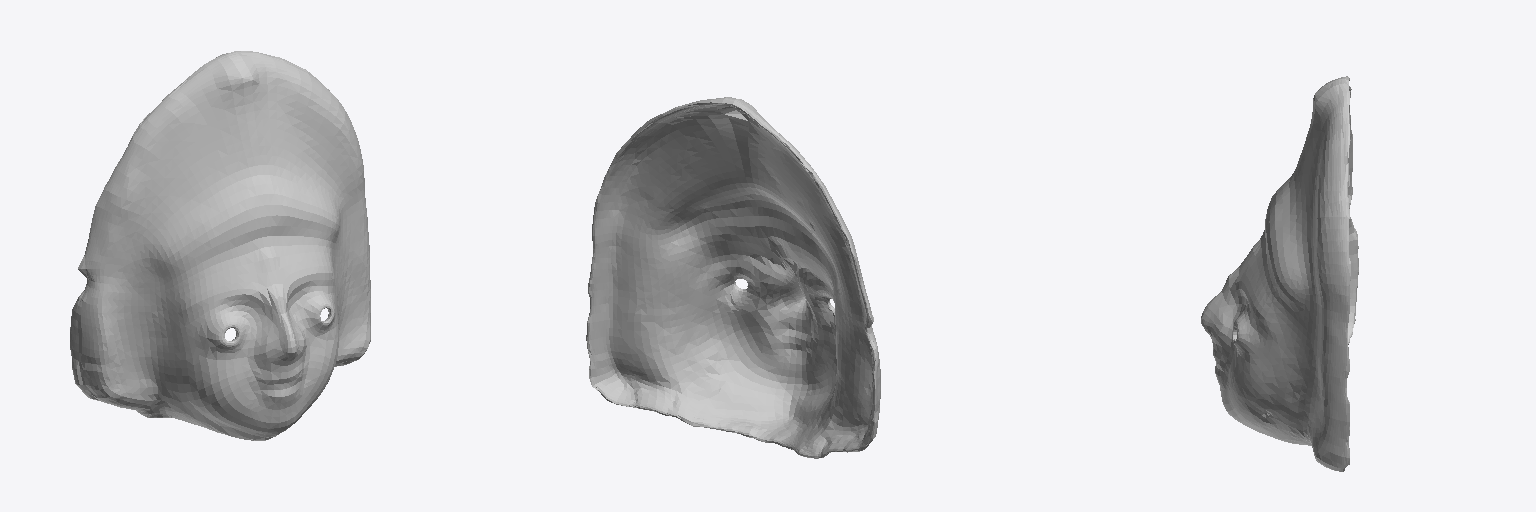
Rendered from Maschera A1.obj.
3 views of the same model, side by side, from view 1: azimuth 30°, elevation 25°; view 2: azimuth 150°, elevation 25°; view 3: azimuth 270°, elevation 25° (orthographic).
Parts seen in each view (by area): view 1: Face_LR1; view 2: Face_LR1; view 3: Face_LR1.
Part boxes in pixels (x1,y1,x2,y2): Face_LR1: (70,51,370,440); Face_LR1: (586,97,880,458); Face_LR1: (1201,76,1358,471).
Size of the model in its own units: 34.52 by 40.04 by 16.08.